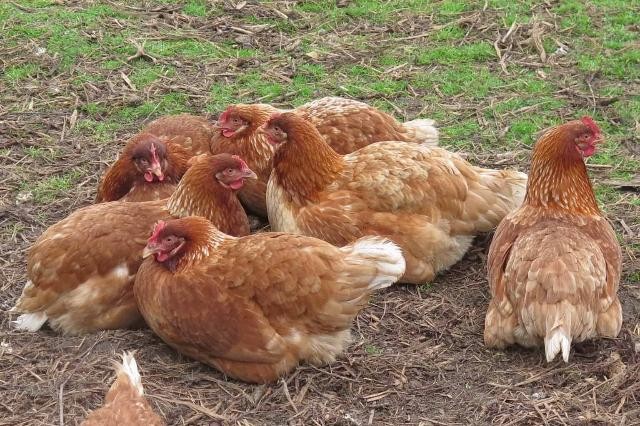Chicken: (255, 112, 530, 286), (134, 214, 406, 386), (12, 152, 259, 337), (484, 117, 624, 363), (211, 96, 441, 218), (96, 112, 215, 201), (76, 352, 171, 426)
